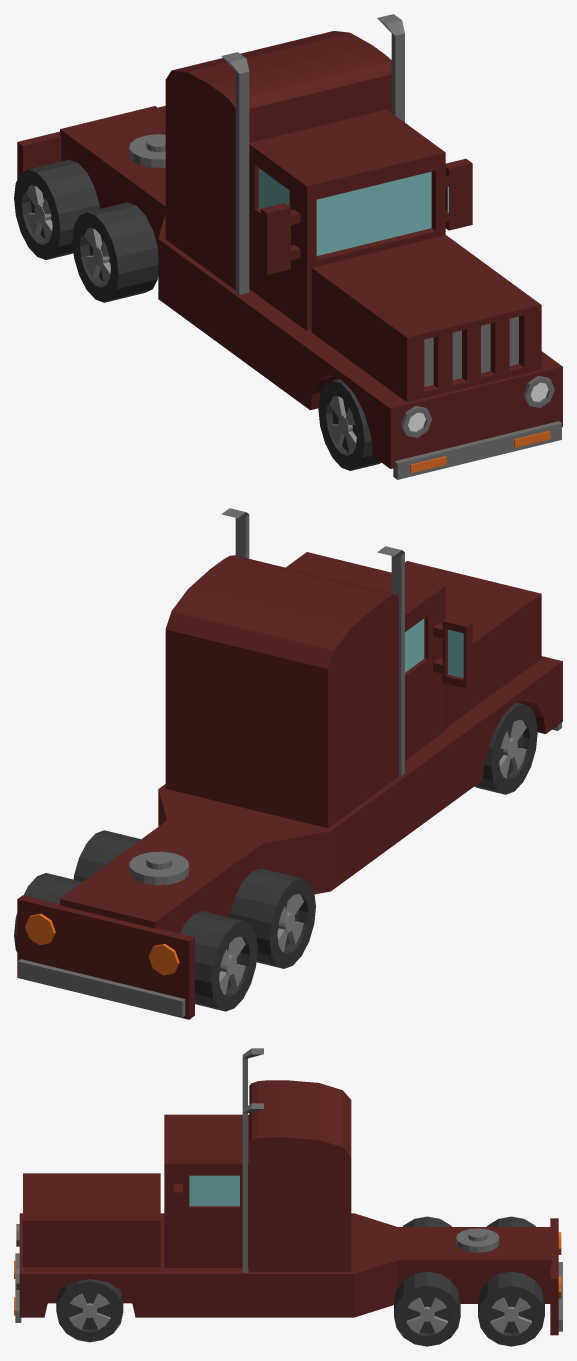
Rendered from AmericanTruck(Old).fbx.
3 renders of one model, top to bottom at view 1: azimuth 30°, elevation 25°; view 2: azimuth 150°, elevation 25°; view 3: azimuth 270°, elevation 25°, orthographic. The views are drawn at different scales.
Parts seen in each view (by area): view 1: Cube.002, RLeftTire.003, RLeftTire.004, FRightTire; view 2: Cube.002, RLeftTire.003, RLeftTire.004, FRightTire, RLeftTire.1, RLeftTire.2; view 3: Cube.002, RLeftTire.1, RLeftTire.2, FLeftTire.
Boxes of the visible parts, <box> form: Cube.002: <box>17,14,562,479</box>; RLeftTire.003: <box>72,202,158,302</box>; RLeftTire.004: <box>14,159,99,259</box>; FRightTire: <box>318,379,381,470</box>; Cube.002: <box>17,508,562,1019</box>; RLeftTire.003: <box>230,868,315,968</box>; RLeftTire.004: <box>180,911,257,1011</box>; FRightTire: <box>474,702,537,794</box>; RLeftTire.1: <box>73,830,140,881</box>; RLeftTire.2: <box>14,873,82,952</box>; Cube.002: <box>14,1048,562,1335</box>; RLeftTire.1: <box>394,1271,460,1346</box>; RLeftTire.2: <box>478,1271,544,1346</box>; FLeftTire: <box>56,1279,123,1342</box>.
Size of the model in its own units: 173 by 261 by 557.
